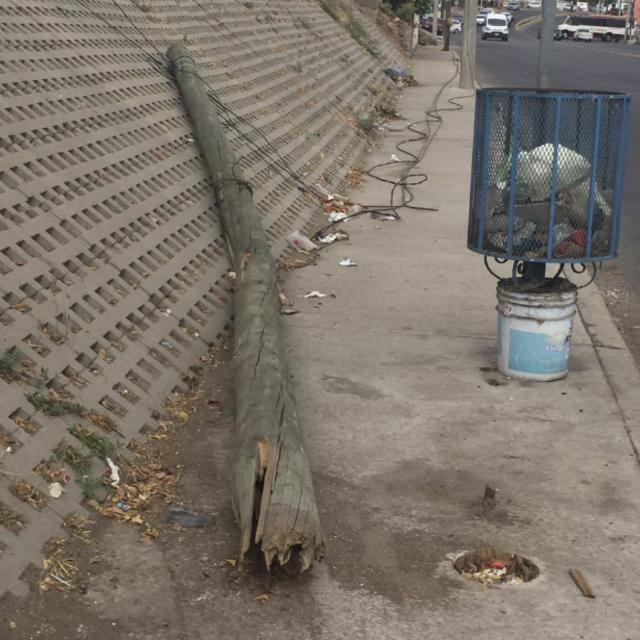Inclined Pole: (164, 38, 327, 569)
